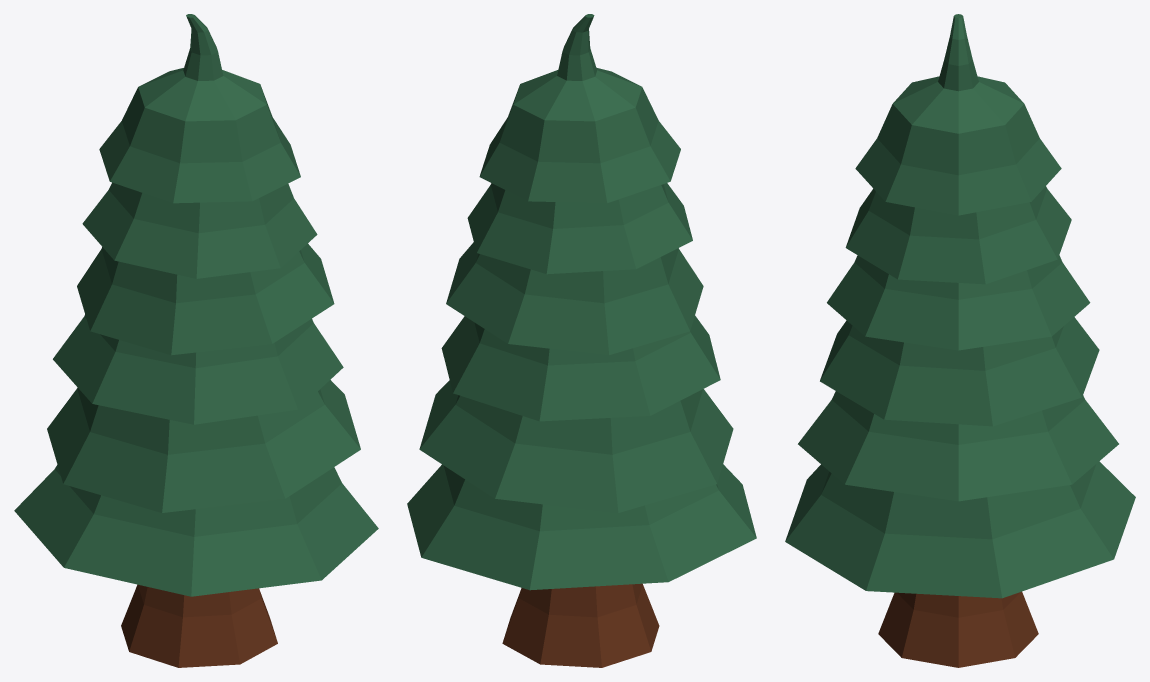
The model's file is Pine.fbx.
3 renders of one model, left to right at view 1: azimuth 30°, elevation 25°; view 2: azimuth 150°, elevation 25°; view 3: azimuth 270°, elevation 25°, orthographic.
Visible parts, largest first — view 1: Cylinder; view 2: Cylinder; view 3: Cylinder.
Boxes of the visible parts, left/top/right/bottom form: Cylinder: left=14, top=14, right=378, bottom=667; Cylinder: left=407, top=14, right=756, bottom=667; Cylinder: left=785, top=14, right=1135, bottom=667.
Size of the model in its own units: 493 by 493 by 951.
